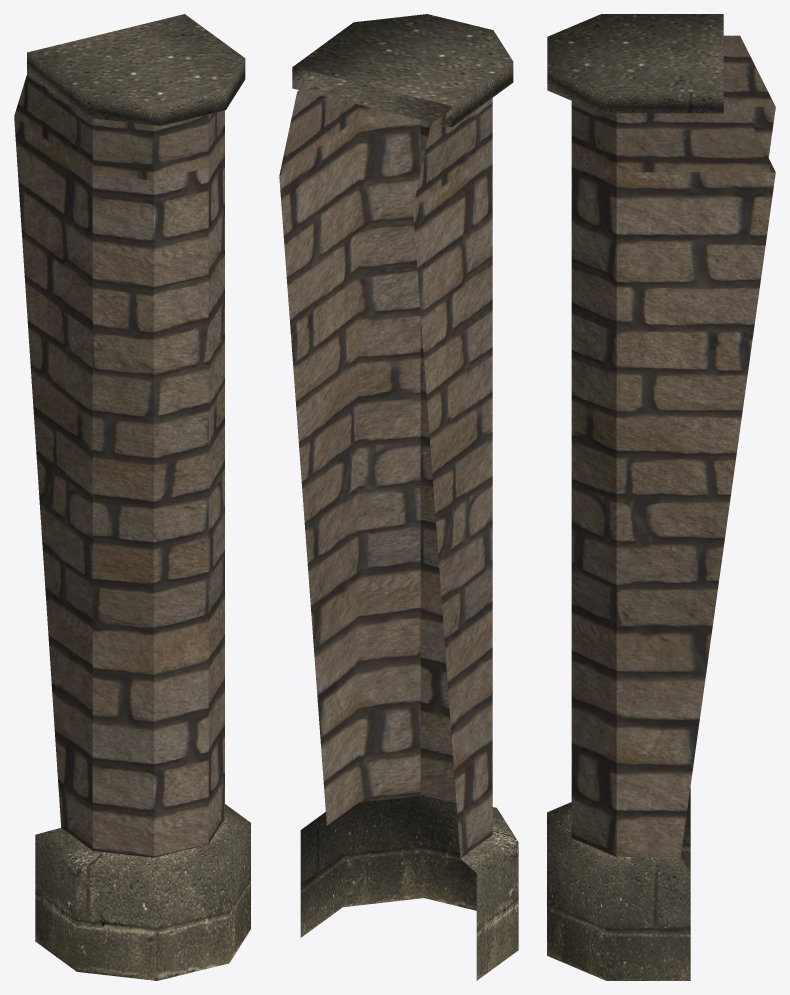
File: column-2.fbx
The picture shows the model from 3 angles, left to right: view 1: azimuth 30°, elevation 25°; view 2: azimuth 150°, elevation 25°; view 3: azimuth 270°, elevation 25°; orthographic projection.
Parts seen in each view (by area): view 1: column-2; view 2: column-2; view 3: column-2.
Part boxes in pixels (bbox=[...]): column-2: bbox=[14, 14, 250, 980]; column-2: bbox=[279, 14, 518, 980]; column-2: bbox=[547, 14, 775, 980].
Bounding box in the file's own units: 82.96 × 399 × 93.38.
